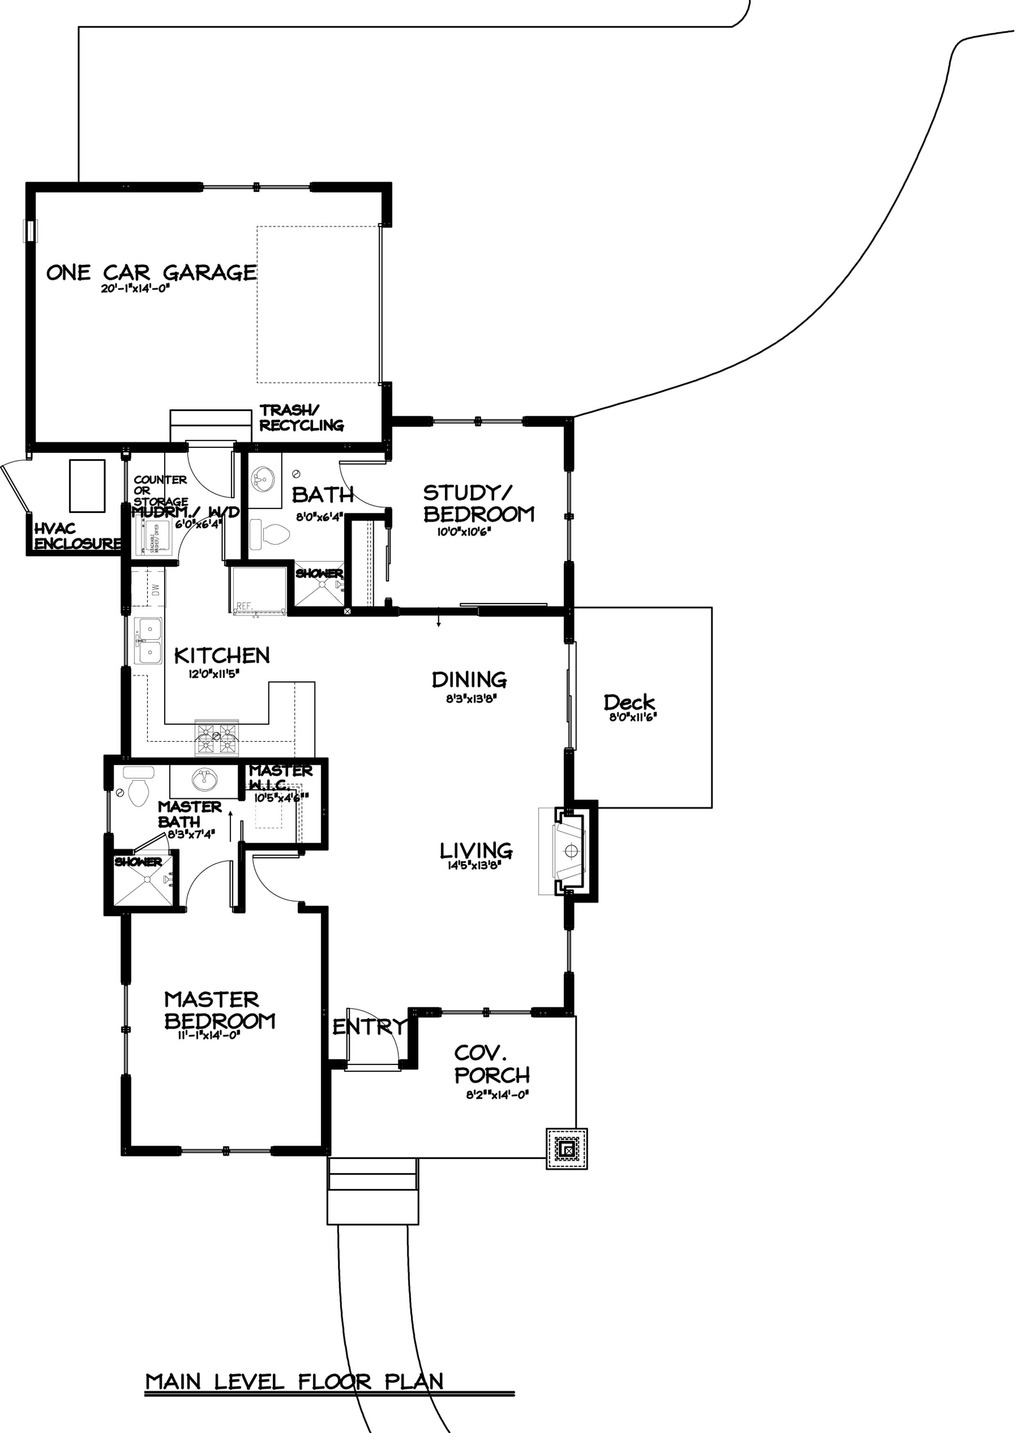door: (321, 1004, 413, 1073), (332, 449, 401, 515), (246, 851, 317, 915), (177, 440, 237, 500), (1, 453, 47, 520), (184, 862, 237, 915), (180, 506, 225, 562)
large_sink: (115, 760, 175, 823), (239, 500, 297, 560)
small_sink: (170, 755, 244, 813), (237, 444, 284, 509)
stairs: (317, 1146, 475, 1294)
twin_sink: (126, 617, 168, 666)
window: (193, 171, 324, 195), (126, 991, 149, 1075)
